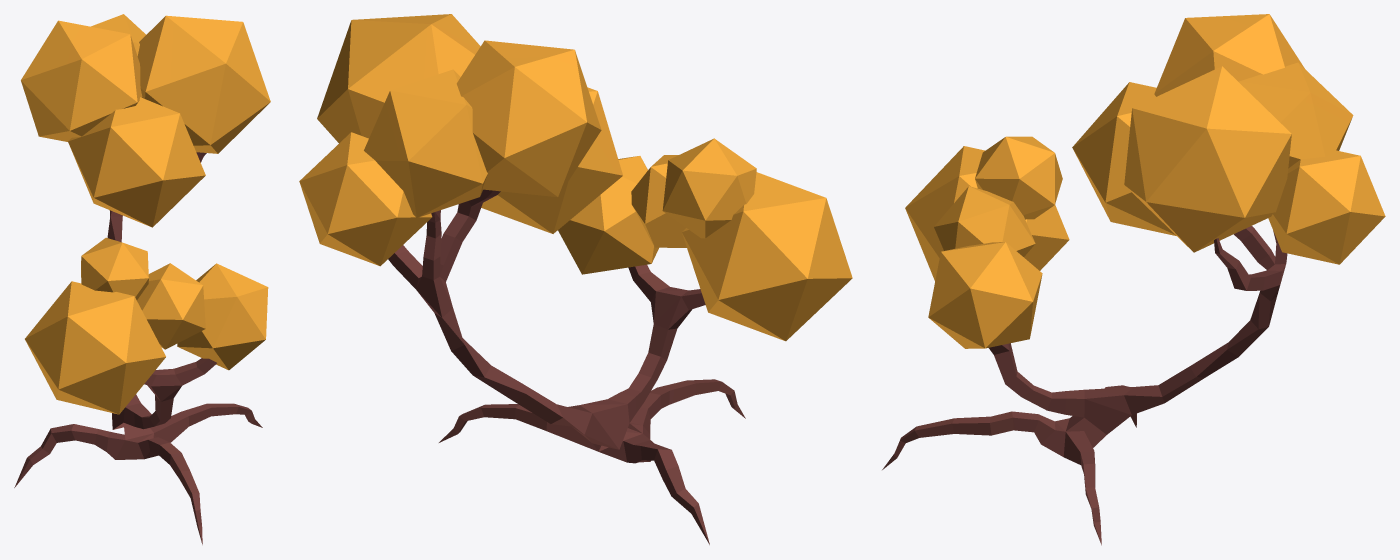
File: TreePackage.fbx_Tree_012.fbx
The picture shows the model from 3 angles, left to right: view 1: azimuth 30°, elevation 25°; view 2: azimuth 150°, elevation 25°; view 3: azimuth 270°, elevation 25°; orthographic projection. The views are drawn at different scales.
Parts seen in each view (by area): view 1: Icosphere.002, Plane.006; view 2: Icosphere.002, Plane.006; view 3: Icosphere.002, Plane.006.
Part boxes in pixels (x1=…): Icosphere.002: x1=21, y1=14, x2=270, y2=414; Plane.006: x1=14, y1=152, x2=262, y2=544; Icosphere.002: x1=299, y1=14, x2=852, y2=341; Plane.006: x1=388, y1=189, x2=745, y2=544; Icosphere.002: x1=905, y1=14, x2=1385, y2=348; Plane.006: x1=882, y1=226, x2=1287, y2=545.
Bounding box in the file's own units: 547 × 688 × 666.
